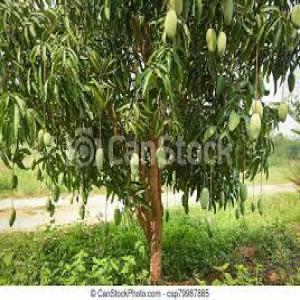Tree: (1, 3, 296, 276)
